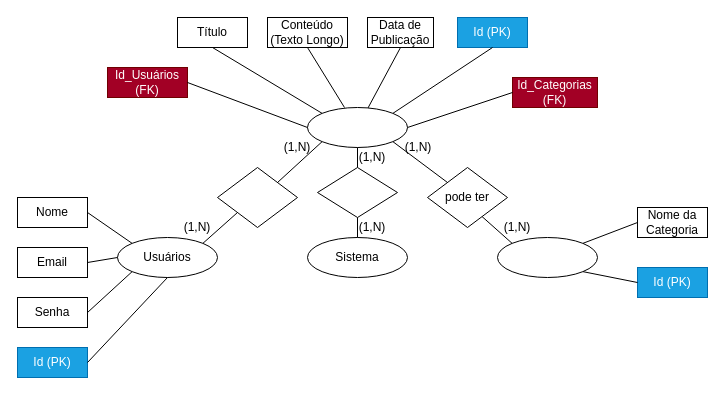
The diagram is 725 pixels wide and 395 high, and some of its shapes have lost their labels. Each missing label, with the box of its shape:
Categorias: (496, 236, 598, 278)
colocado: (316, 166, 398, 218)
faz: (216, 166, 298, 228)
Posts: (306, 106, 408, 148)
